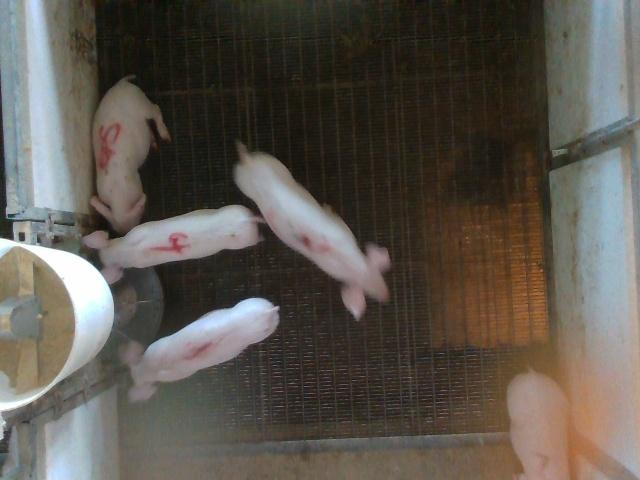pig-1: (119, 299, 279, 402)
pig-3: (234, 141, 390, 319)
pig-4: (84, 205, 261, 283)
pig-5: (90, 75, 170, 234)
